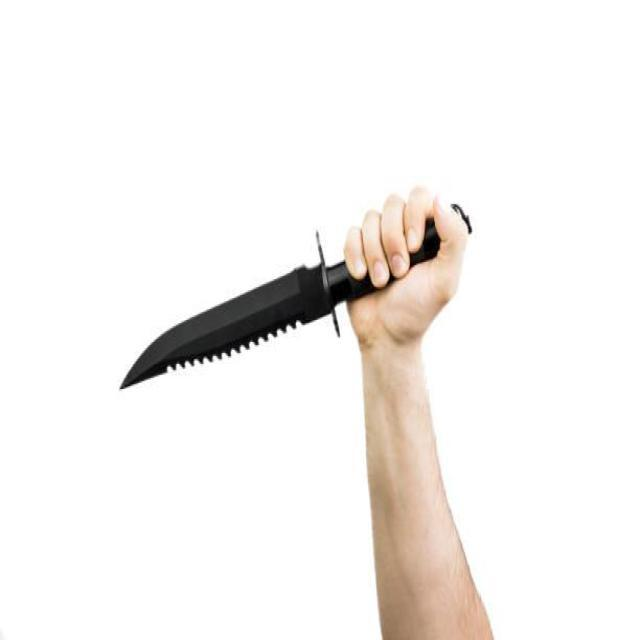faca: (104, 168, 483, 400)
